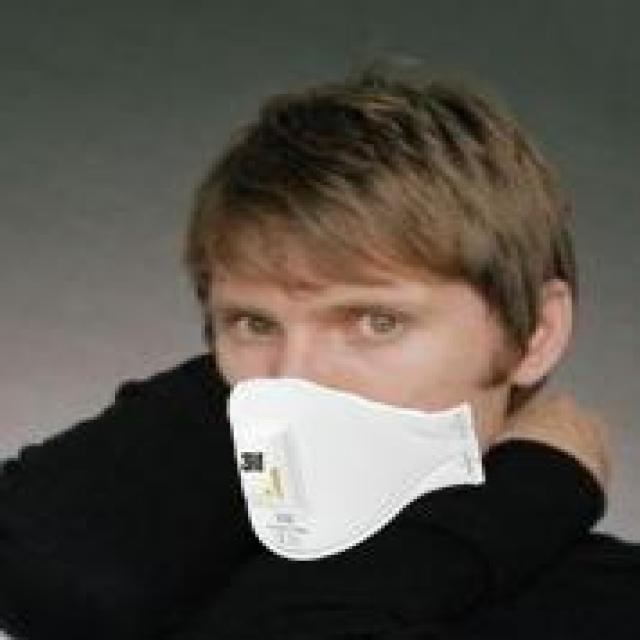mask: (176, 59, 590, 549)
